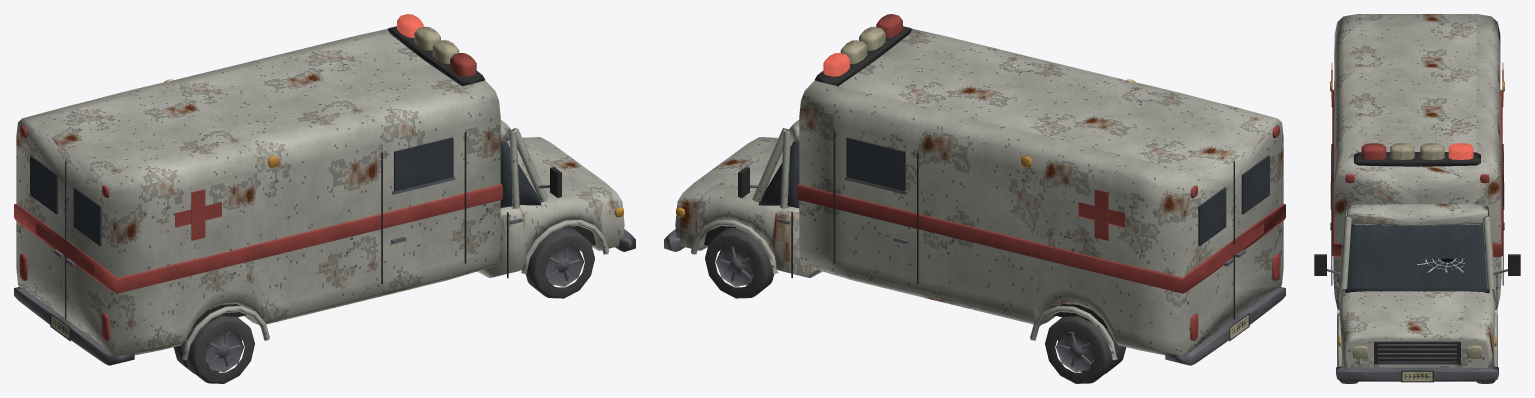
File: ambulance.glb
3 views of the same model, side by side, from view 1: azimuth 30°, elevation 25°; view 2: azimuth 150°, elevation 25°; view 3: azimuth 270°, elevation 25° (orthographic). The views are drawn at different scales.
Visible parts, largest first — view 1: detail, body-col; view 2: detail, body-col; view 3: detail.
Part boxes in pixels (x1,y1,x2,y2): detail: [14, 14, 635, 383]; body-col: [192, 226, 595, 328]; detail: [664, 14, 1285, 383]; body-col: [704, 226, 1107, 328]; detail: [1314, 14, 1520, 383].
Size of what is drawn, in the model's own units: 6.32 by 2.83 by 2.6.
11 materials, 11 textured.
